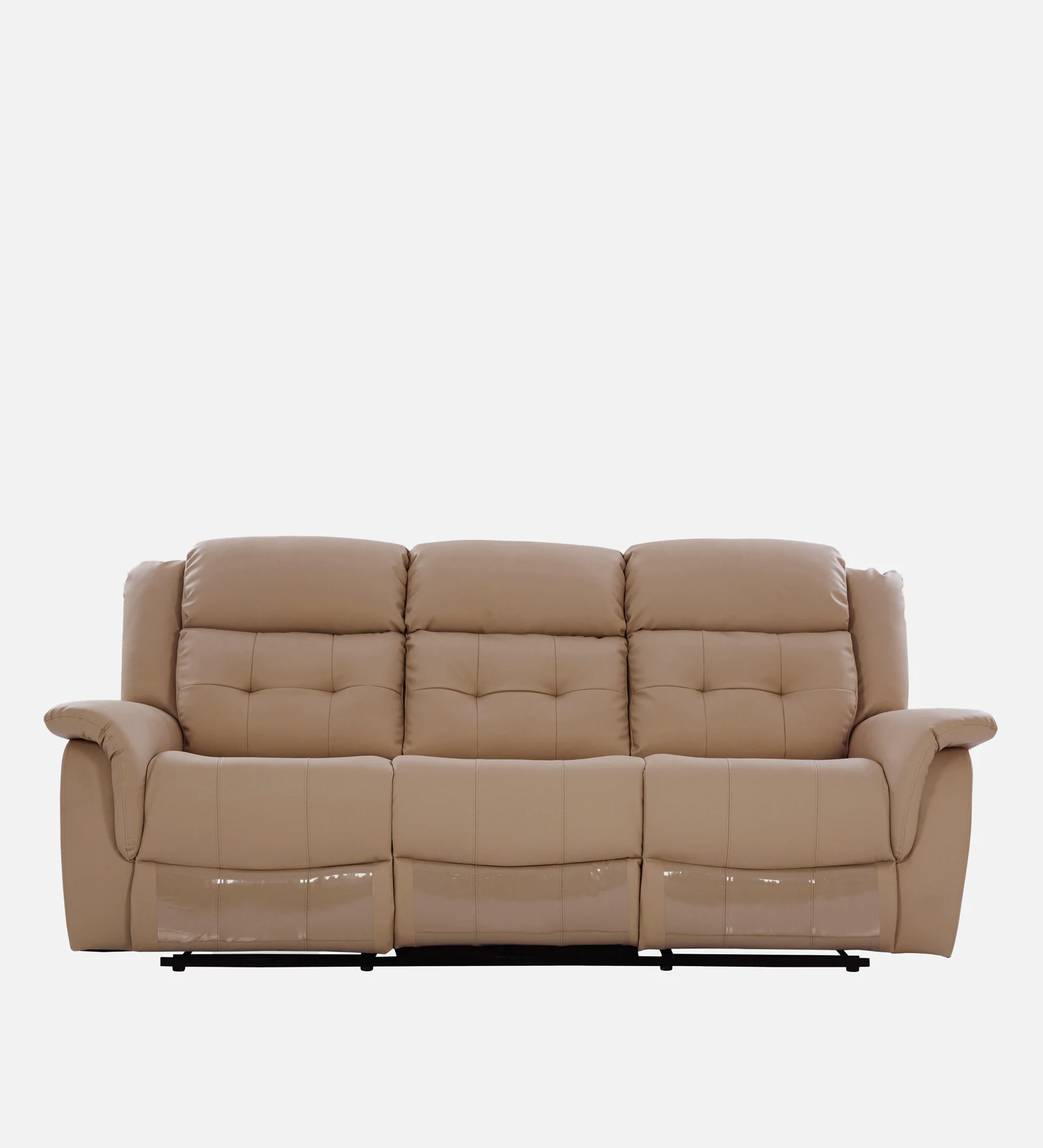3seatersofa: (46, 537, 995, 971)
backrest: (123, 537, 907, 759)
leftarmrest: (849, 708, 995, 956)
leg: (160, 944, 870, 972)
rightarmrest: (45, 701, 181, 949)
seat: (131, 751, 939, 952)
